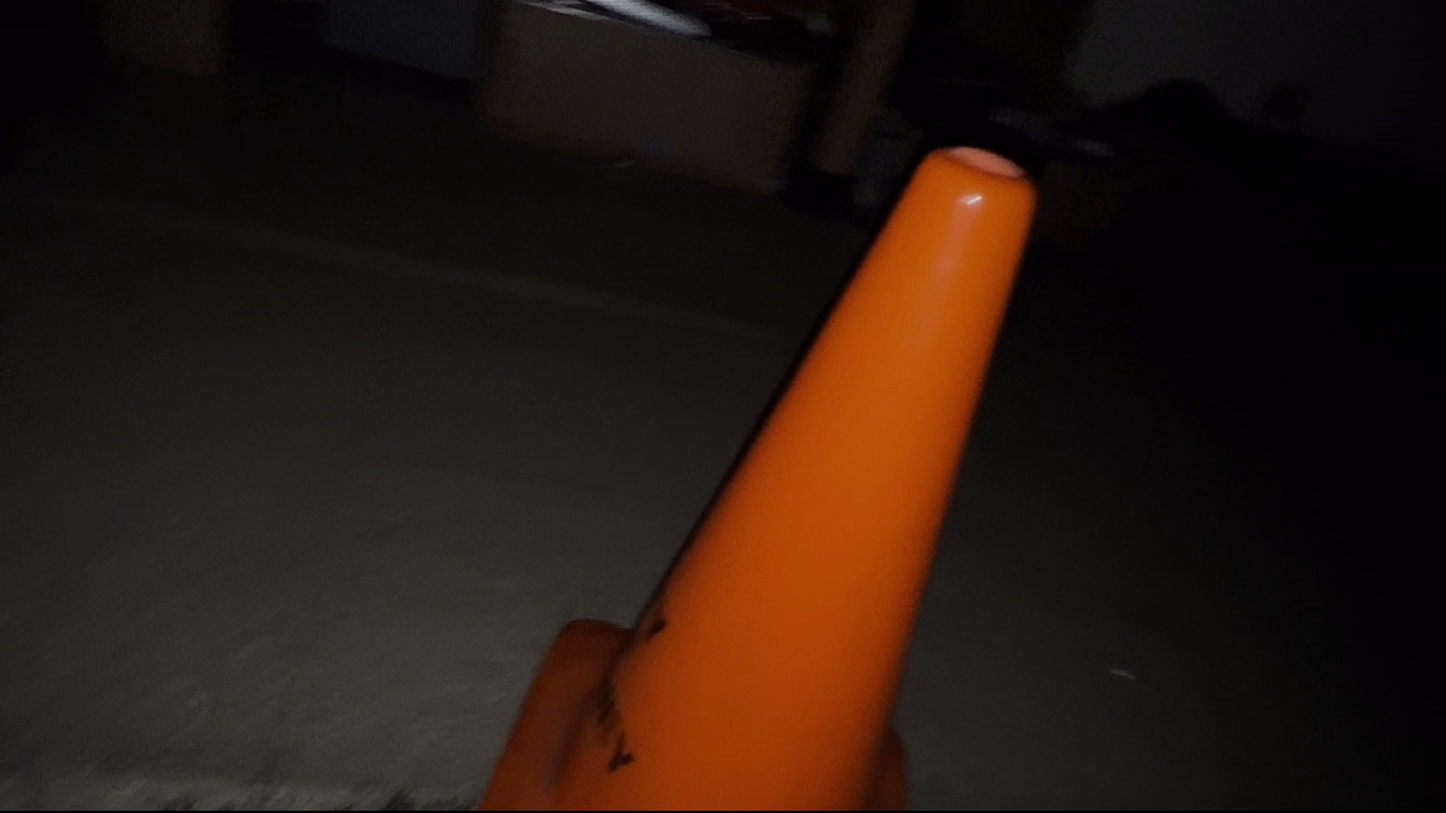traffic_cone: (474, 143, 1038, 811)
